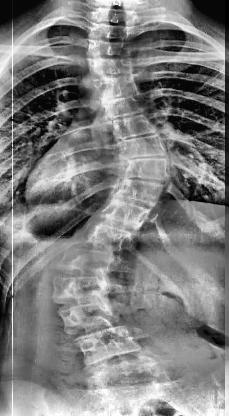Vertebrae: (74, 323, 142, 368), (54, 298, 124, 336), (50, 270, 120, 304), (70, 218, 132, 256), (91, 198, 154, 235), (53, 244, 121, 278), (106, 176, 168, 206), (112, 132, 168, 162), (103, 114, 161, 142), (112, 156, 170, 182), (92, 73, 142, 101), (96, 95, 146, 121), (86, 54, 134, 80), (87, 20, 135, 42), (86, 38, 134, 60)
